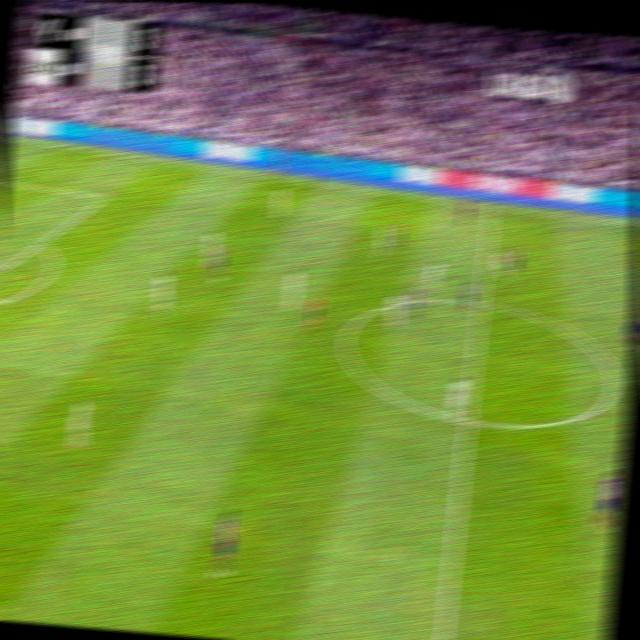bigarea_top_inner: (95, 190, 109, 204)
corner: (5, 131, 19, 142)
halfcircle_bottom: (458, 406, 477, 433)
halfcircle_top: (471, 290, 491, 314)
midline_top_intersection: (485, 199, 498, 213)
top_arc_area_intersection: (32, 233, 48, 250)
